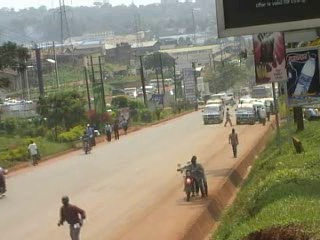Car: (221, 96, 235, 105)
Motorcycle: (174, 160, 206, 203), (79, 129, 95, 155)
